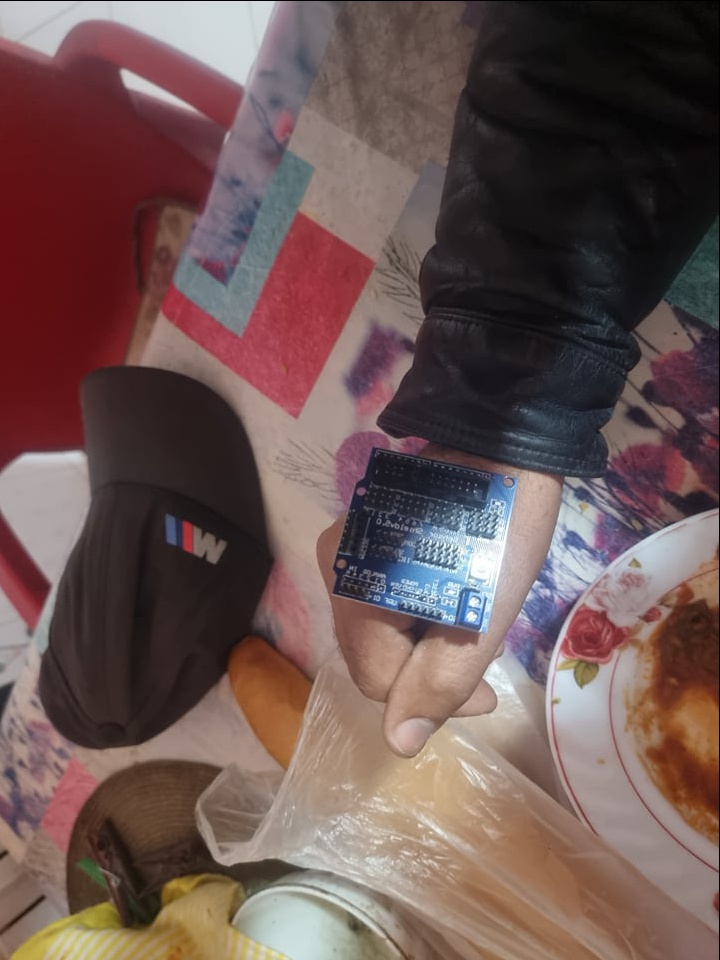5V EXPANSION: (329, 445, 522, 638)
